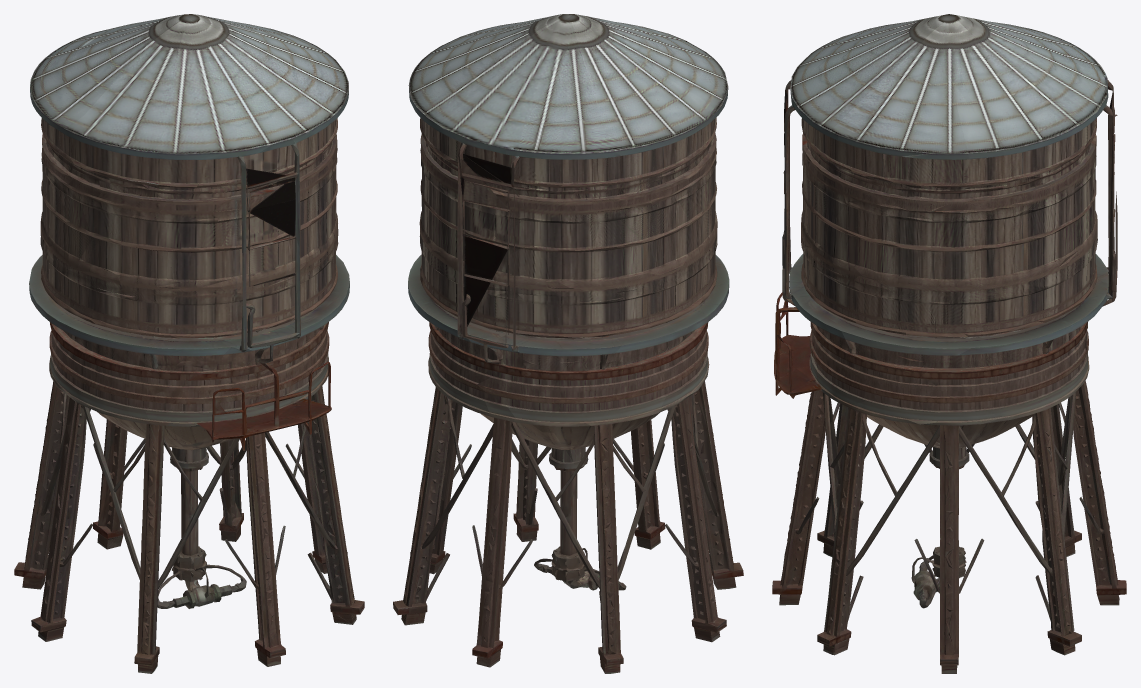
Rendered from city-water-tower.glb.
The picture shows the model from 3 angles, left to right: view 1: azimuth 30°, elevation 25°; view 2: azimuth 150°, elevation 25°; view 3: azimuth 270°, elevation 25°; orthographic projection.
Size of the model in its own units: 1.04 by 1.9 by 1.04.
1 material, 1 textured.
